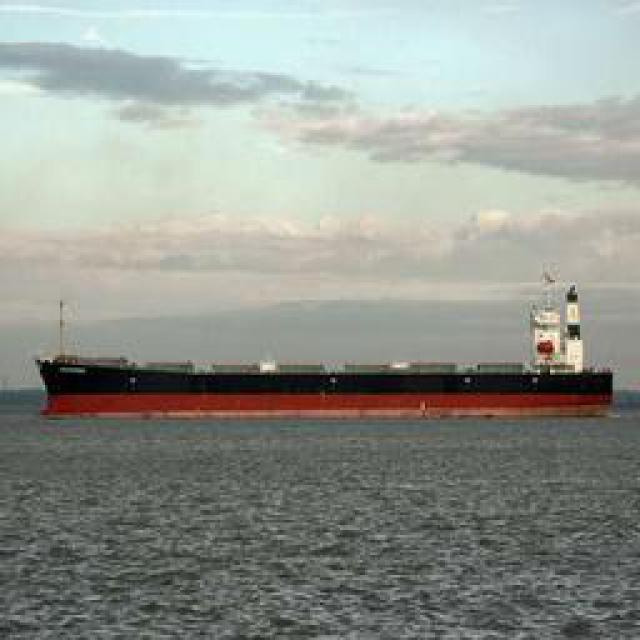Ship: (49, 357, 604, 415)
